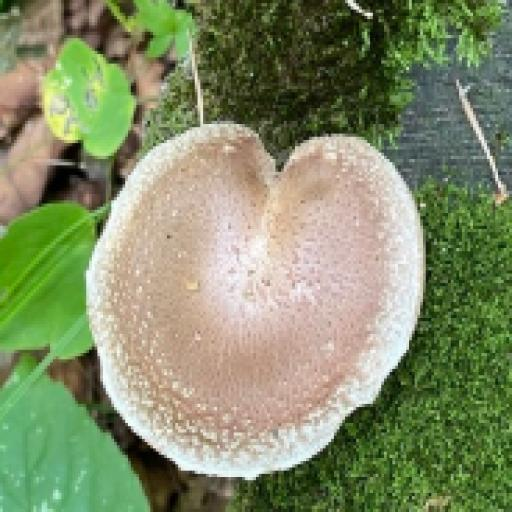Shiitake Mushroom: (94, 116, 412, 469)
